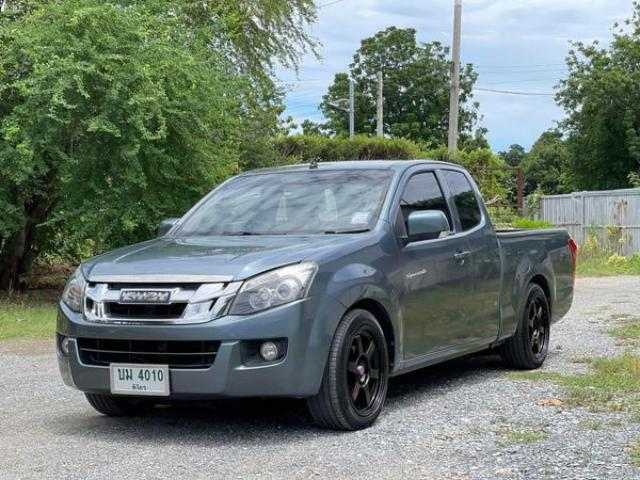pickup-truck: (44, 126, 587, 446)
